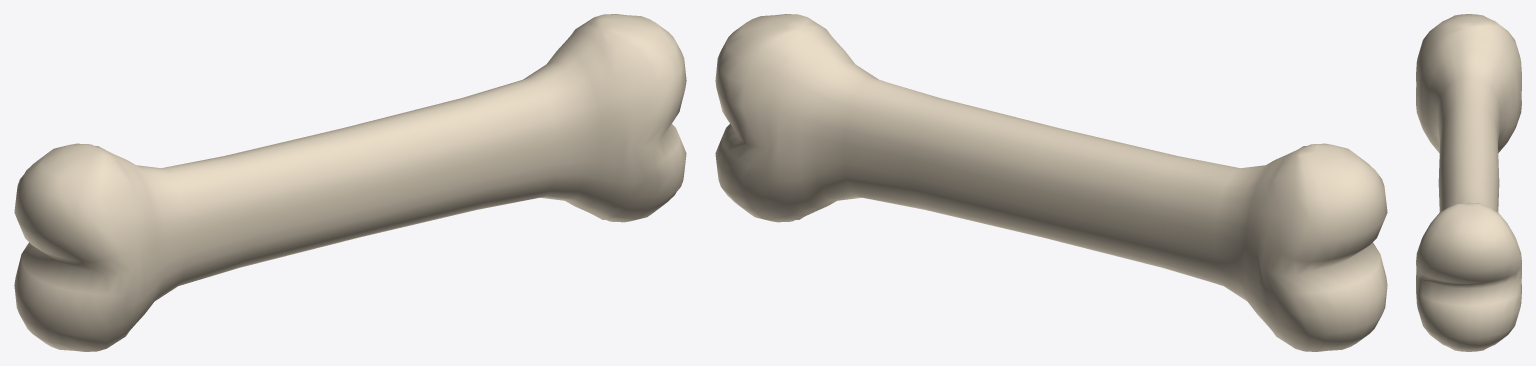
File: SM_Bone_01.fbx
The picture shows the model from 3 angles, left to right: view 1: azimuth 30°, elevation 25°; view 2: azimuth 150°, elevation 25°; view 3: azimuth 270°, elevation 25°; orthographic projection. The views are drawn at different scales.
Visible parts, largest first — view 1: Bone_01; view 2: Bone_01; view 3: Bone_01.
Part boxes in pixels (x1=…): Bone_01: x1=14, y1=14, x2=686, y2=351; Bone_01: x1=715, y1=14, x2=1387, y2=351; Bone_01: x1=1416, y1=14, x2=1521, y2=351.
Bounding box in the file's own units: 180 × 50.64 × 35.17.
